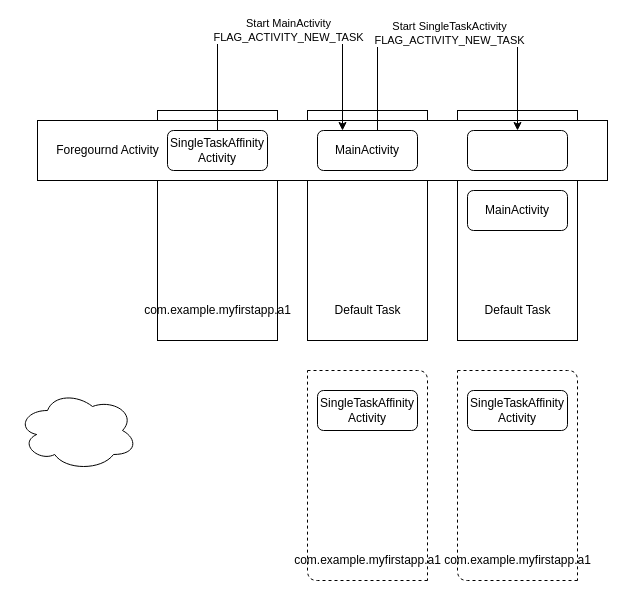
Some shapes in this 625 by 599 pixel diagram are drawn without their labels. Each missing label, with the centre of its shape:
Background Task: pixel 77 430
SingleTaskActivity: pixel 517 150
